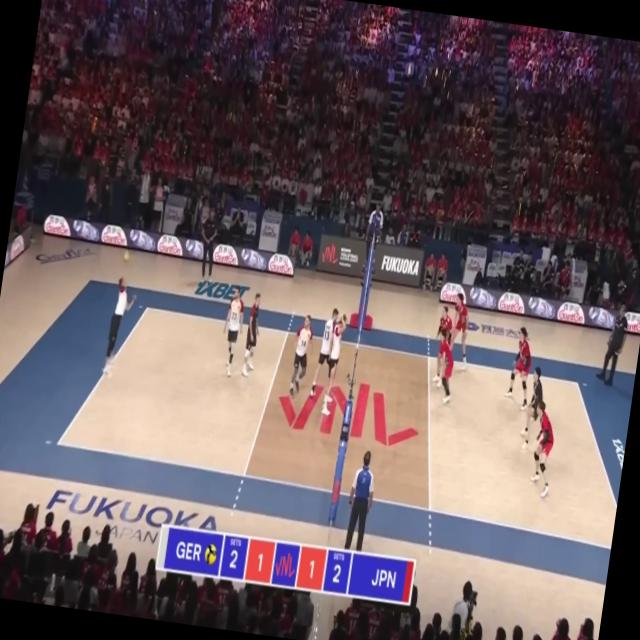referee: (342, 448, 380, 552)
team_one: (102, 276, 140, 378), (216, 284, 250, 378), (309, 306, 339, 402), (322, 314, 349, 418), (288, 314, 316, 398), (240, 293, 265, 378)
team_two: (524, 399, 562, 498), (502, 326, 540, 410), (442, 292, 478, 373), (430, 329, 461, 406), (520, 365, 548, 441), (434, 305, 456, 354)
